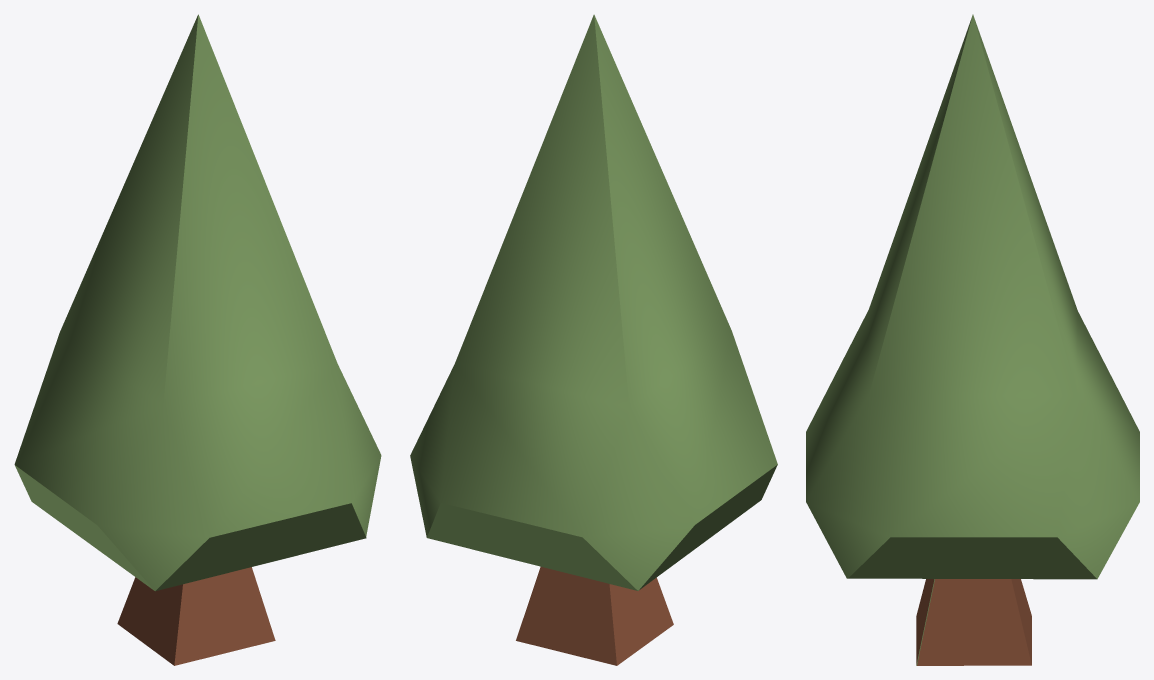
The model's file is Arbol_Texturizado.fbx.
3 views of the same model, side by side, from view 1: azimuth 30°, elevation 25°; view 2: azimuth 150°, elevation 25°; view 3: azimuth 270°, elevation 25° (orthographic).
Parts seen in each view (by area): view 1: Pyramid001; view 2: Pyramid001; view 3: Pyramid001.
Boxes of the visible parts, x1,y1,x2,y2 form: Pyramid001: [14, 14, 381, 665]; Pyramid001: [410, 14, 777, 665]; Pyramid001: [806, 14, 1139, 665].
Size of the model in its own units: 208 by 432 by 208.
